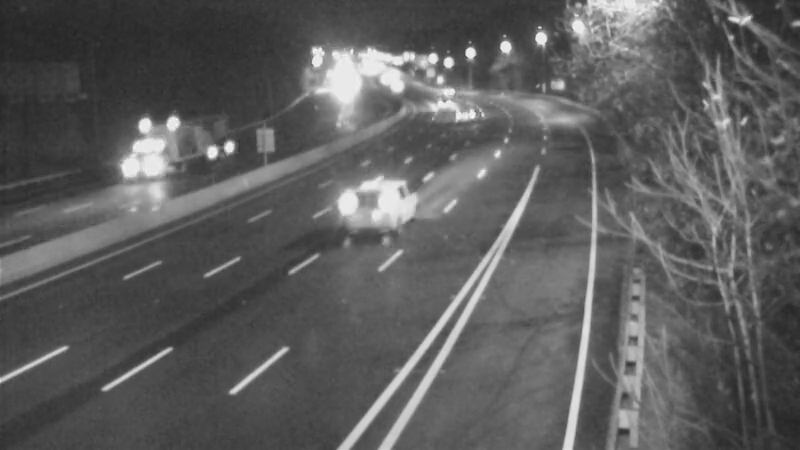vehicle: (334, 158, 414, 238), (105, 125, 185, 205), (414, 77, 464, 127), (437, 89, 487, 139)
